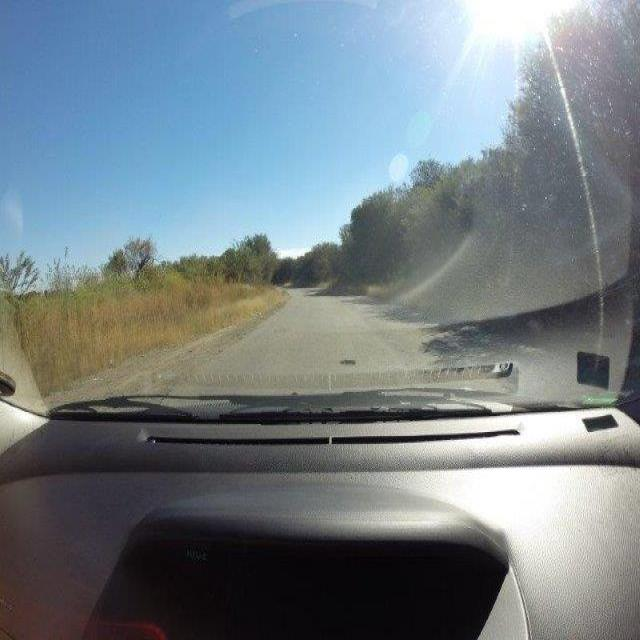lubang: (335, 358, 361, 367)
